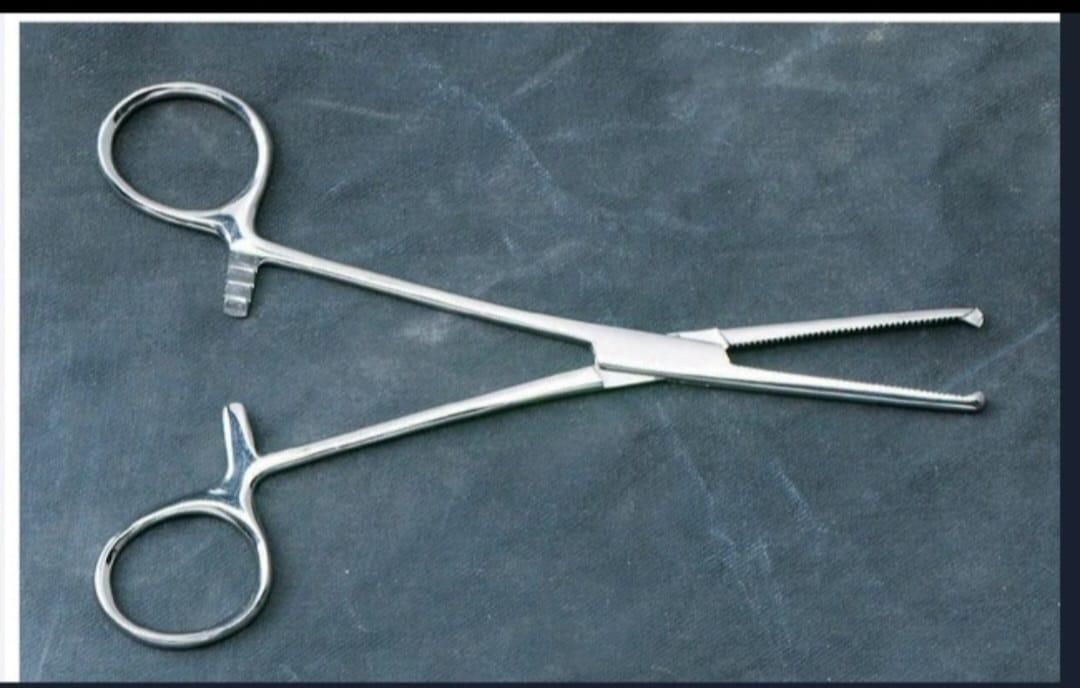Kocher Forceps: (87, 74, 1000, 649)
